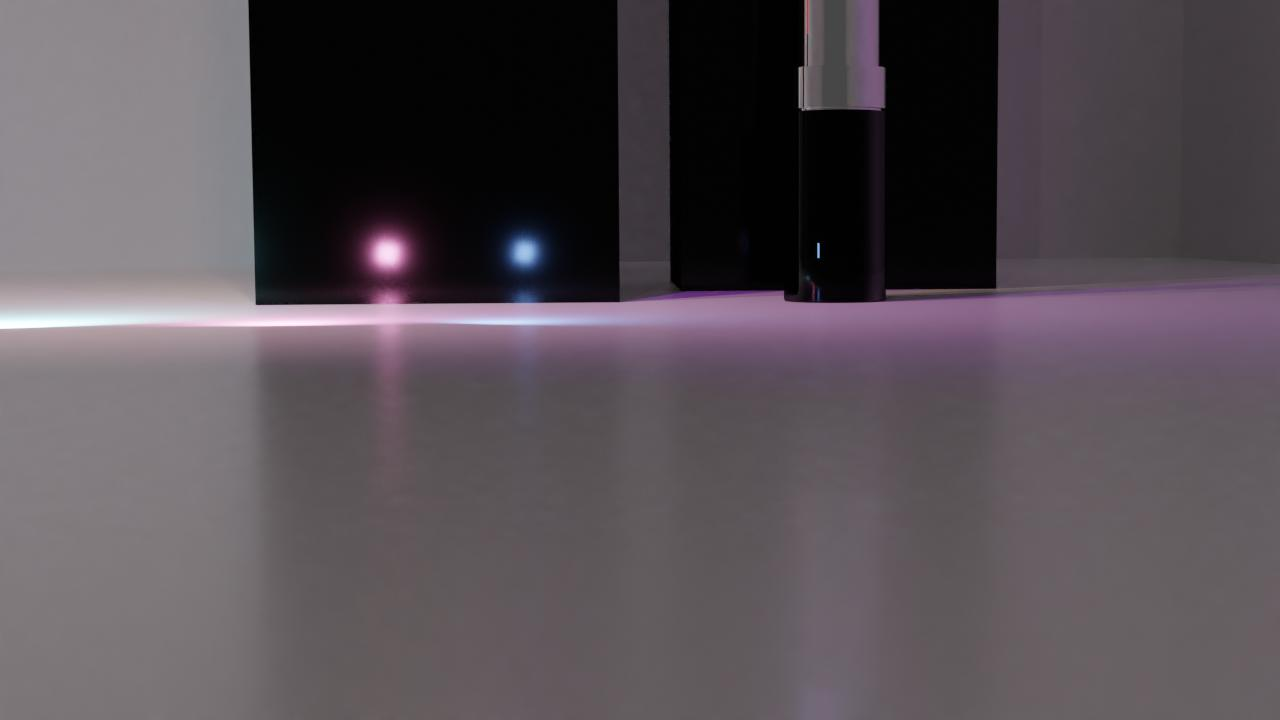CLASSIFIER_NAME: (782, 0, 889, 302)
